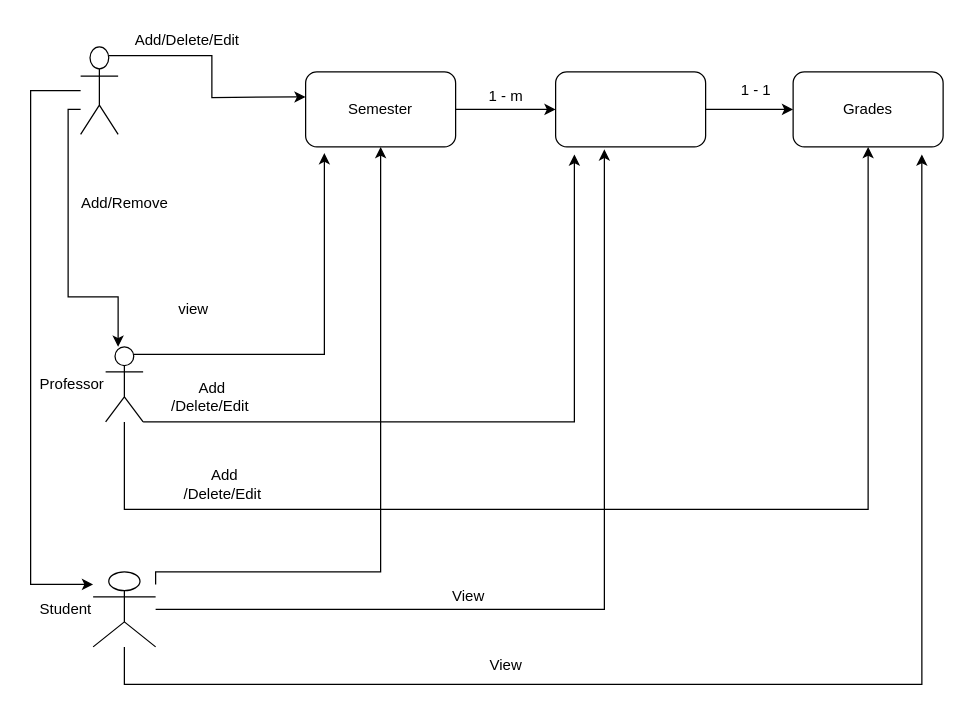
The diagram is 965 pixels wide and 716 high, and some of its shapes have lost their labels. The shapes that lost their labels are listed below. From the top down, each one's box as (x1, y1, x2, y2) in pixels, then its label:
(79, 46, 118, 134): Admin
(554, 71, 706, 147): Subject
